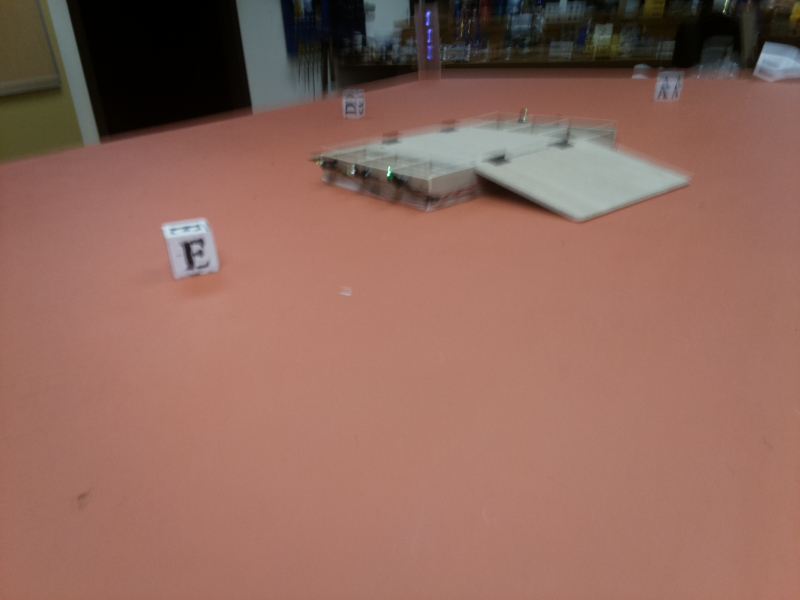blockD: (652, 73, 691, 102), (340, 93, 368, 118)
blockE: (162, 221, 219, 281)
side: (317, 156, 444, 212)
slope: (477, 136, 691, 221), (311, 116, 477, 150)
